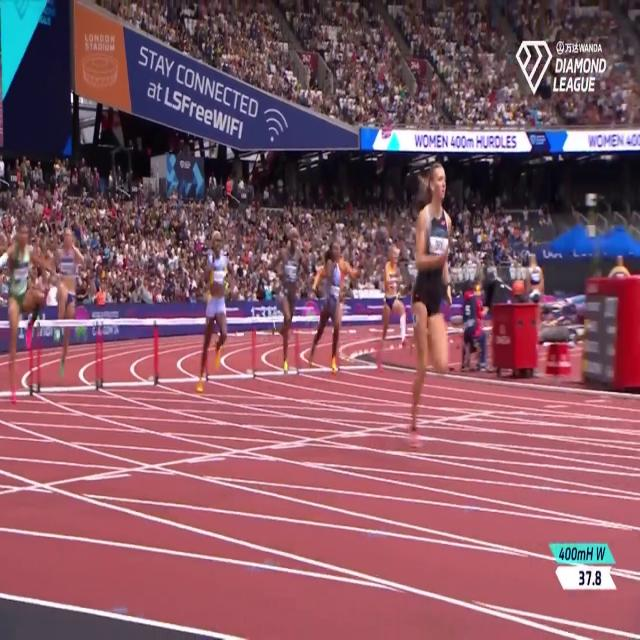athlete: (414, 163, 464, 451), (2, 219, 46, 418), (46, 225, 88, 381), (262, 230, 306, 377), (195, 221, 229, 407), (310, 231, 348, 377), (377, 234, 410, 385)
hurdle: (33, 310, 98, 401), (98, 311, 158, 395), (158, 309, 214, 388), (209, 312, 258, 388), (254, 313, 299, 390), (0, 318, 33, 418)
